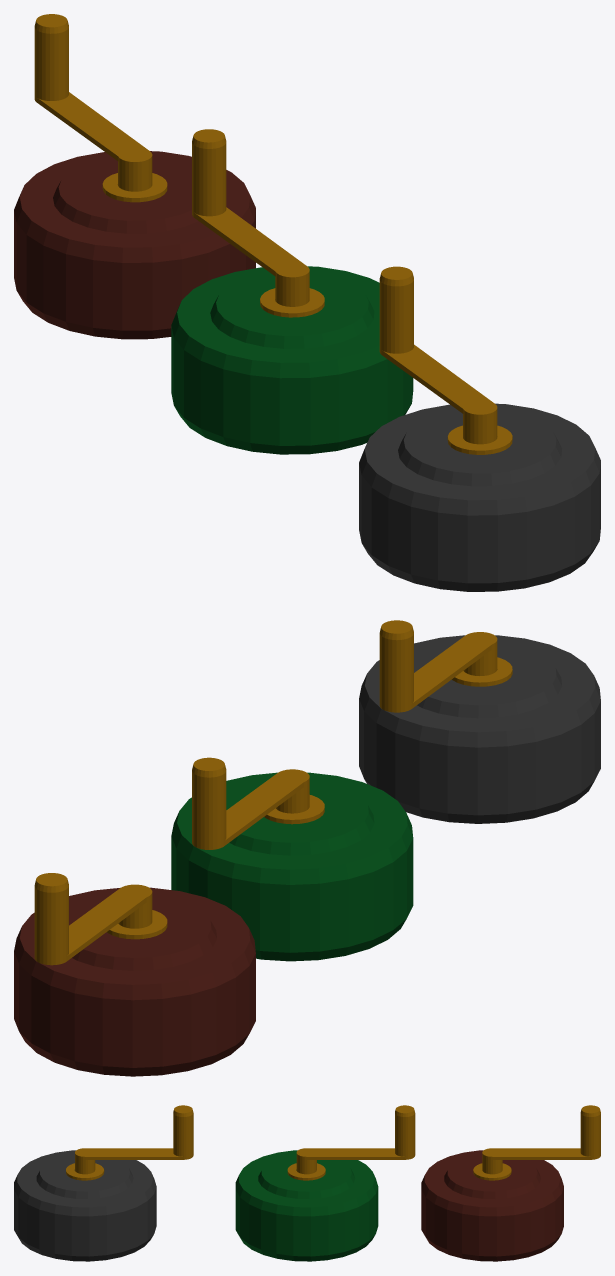
The model's file is Kurbel.fbx.
3 views of the same model, one above another, from view 1: azimuth 30°, elevation 25°; view 2: azimuth 150°, elevation 25°; view 3: azimuth 270°, elevation 25° (orthographic). The views are drawn at different scales.
Visible parts, largest first — view 1: Cylinder.004, Base, Cylinder.002, Cylinder.003, Cylinder.005, Kurbel; view 2: Cylinder.002, Cylinder.004, Base, Cylinder.003, Cylinder.005, Kurbel; view 3: Base, Cylinder.002, Cylinder.004, Kurbel, Cylinder.005, Cylinder.003.
Part boxes in pixels (x1,y1,x2,y2): Cylinder.004: (359, 403, 600, 591); Base: (171, 266, 413, 454); Cylinder.002: (14, 151, 255, 339); Cylinder.003: (34, 14, 152, 191); Cylinder.005: (379, 266, 497, 444); Kurbel: (192, 129, 309, 306); Cylinder.002: (14, 887, 255, 1076); Cylinder.004: (359, 635, 600, 823); Base: (171, 772, 413, 961); Cylinder.003: (34, 873, 152, 965); Cylinder.005: (379, 620, 497, 712); Kurbel: (192, 757, 309, 849); Base: (235, 1150, 378, 1261); Cylinder.002: (421, 1150, 563, 1261); Cylinder.004: (14, 1150, 156, 1261); Kurbel: (296, 1105, 415, 1174); Cylinder.005: (75, 1105, 193, 1174); Cylinder.003: (482, 1105, 600, 1174).
Size of the model in its own units: 544 by 520 by 2236.
